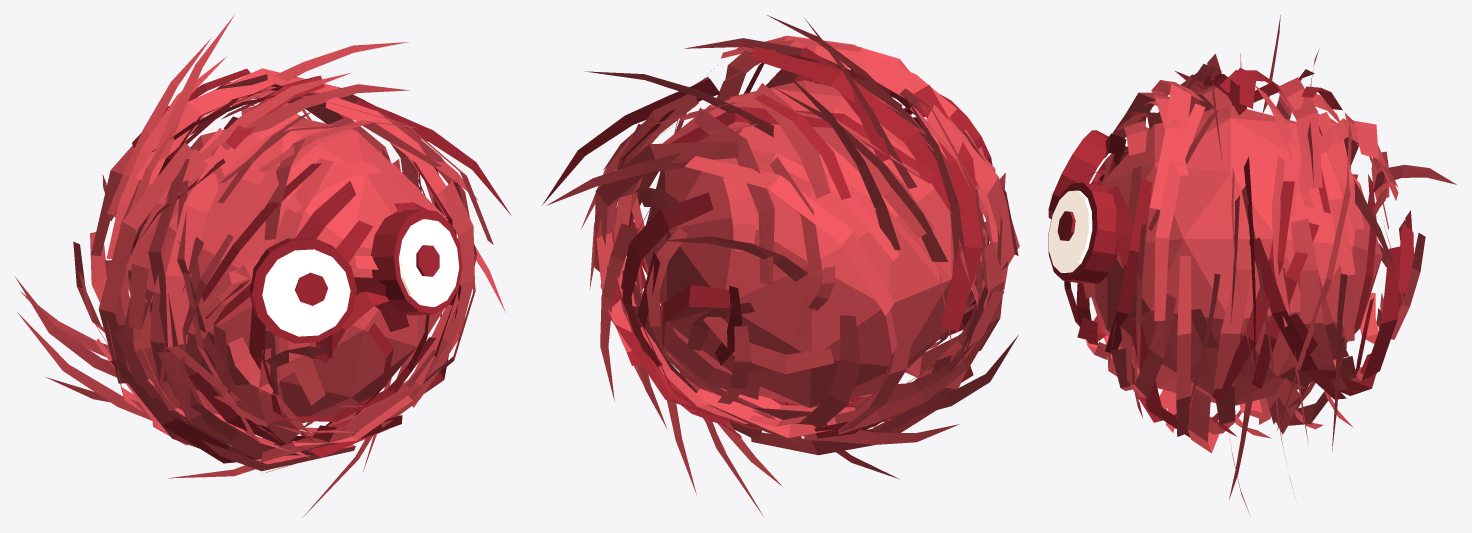
File: bolita-rica-coral.glb
3 renders of one model, left to right at view 1: azimuth 30°, elevation 25°; view 2: azimuth 150°, elevation 25°; view 3: azimuth 270°, elevation 25°, orthographic. The views are drawn at different scales.
Parts seen in each view (by area): view 1: bolita-cuerpo; view 2: bolita-cuerpo; view 3: bolita-cuerpo.
Boxes of the visible parts, x1,y1,x2,y2 form: bolita-cuerpo: [15, 14, 511, 516]; bolita-cuerpo: [542, 15, 1019, 516]; bolita-cuerpo: [1048, 15, 1456, 514].
Size of the model in its own units: 0.4477 by 0.4538 by 0.3495.
